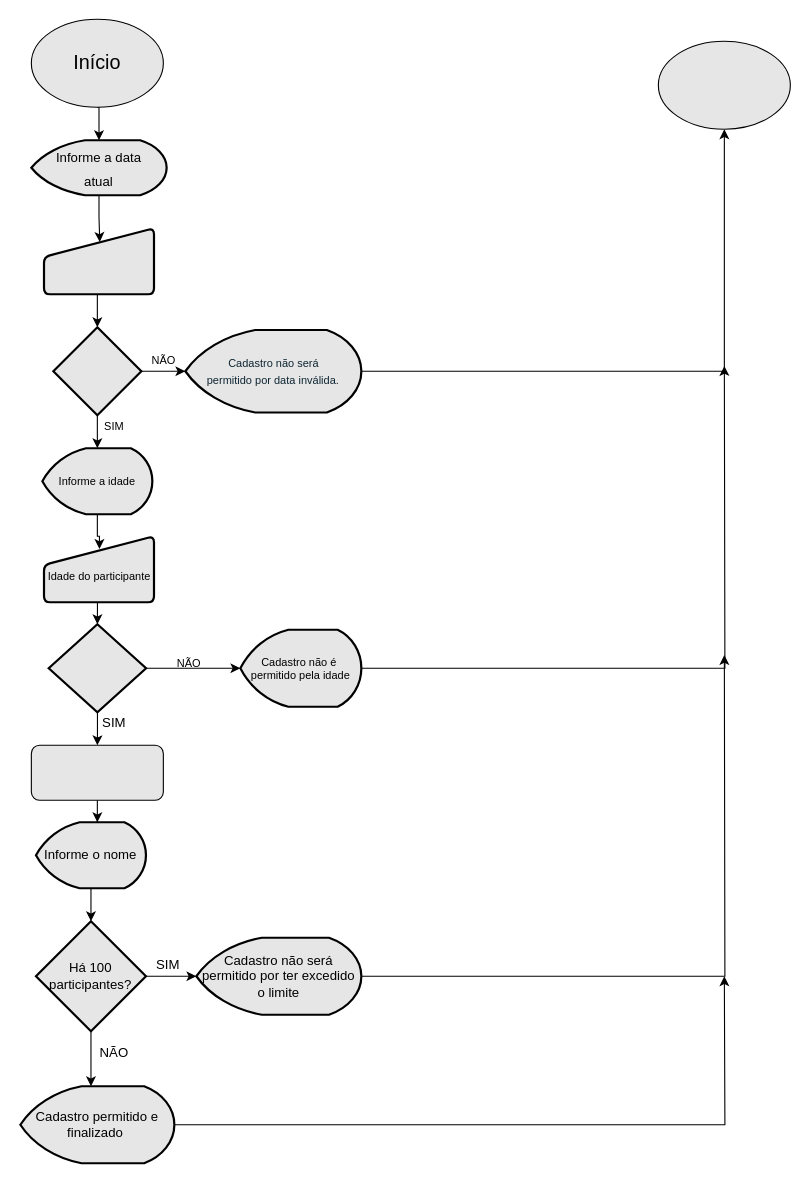
The diagram is 810 pixels wide and 1184 high, and some of its shapes have lost their labels. Here are the shapes that lost their labels. From the top down, the centre of each, then its label:
At point (723, 84): "FIM".
At point (98, 261): "Data atual".
At point (97, 371): "Data posterior?".
At point (97, 668): "Maior de 18?".
At point (96, 772): "Lista de palestrantes e participantes".
